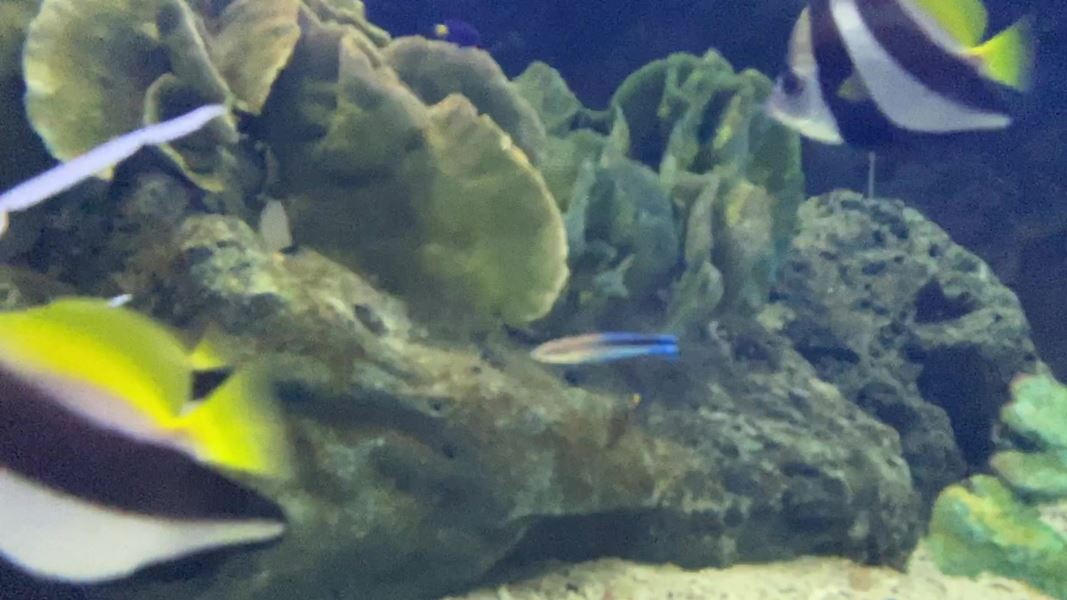Bluesteak cleaner wrasse: (526, 319, 694, 384)
